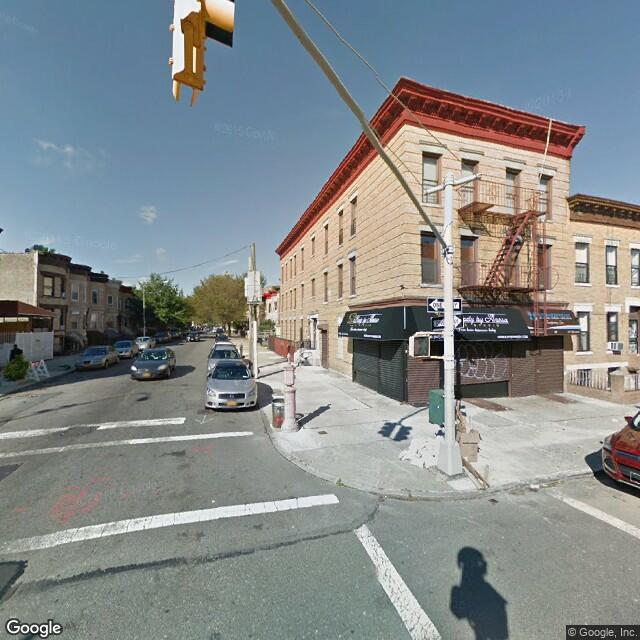litter: (529, 482, 539, 494), (335, 476, 341, 488), (609, 417, 618, 423), (209, 499, 216, 504), (528, 420, 534, 425)
